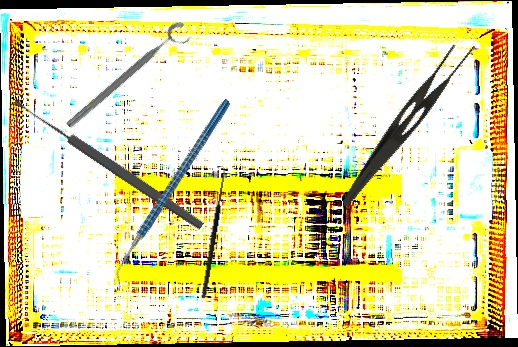Chopper: (66, 98, 279, 291)
Dressing Forceps: (339, 29, 479, 221)
Fixation Ring: (62, 18, 196, 139)
Hook Surgical: (195, 165, 228, 299)
Surgical Spoon: (11, 95, 206, 232)
